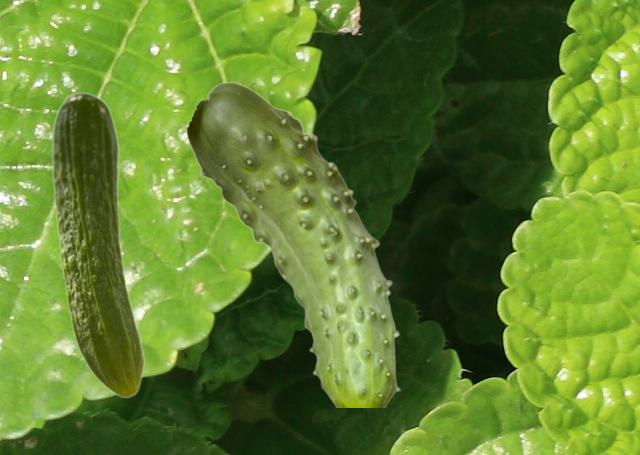cucumber: (185, 81, 400, 406), (51, 91, 144, 398)
